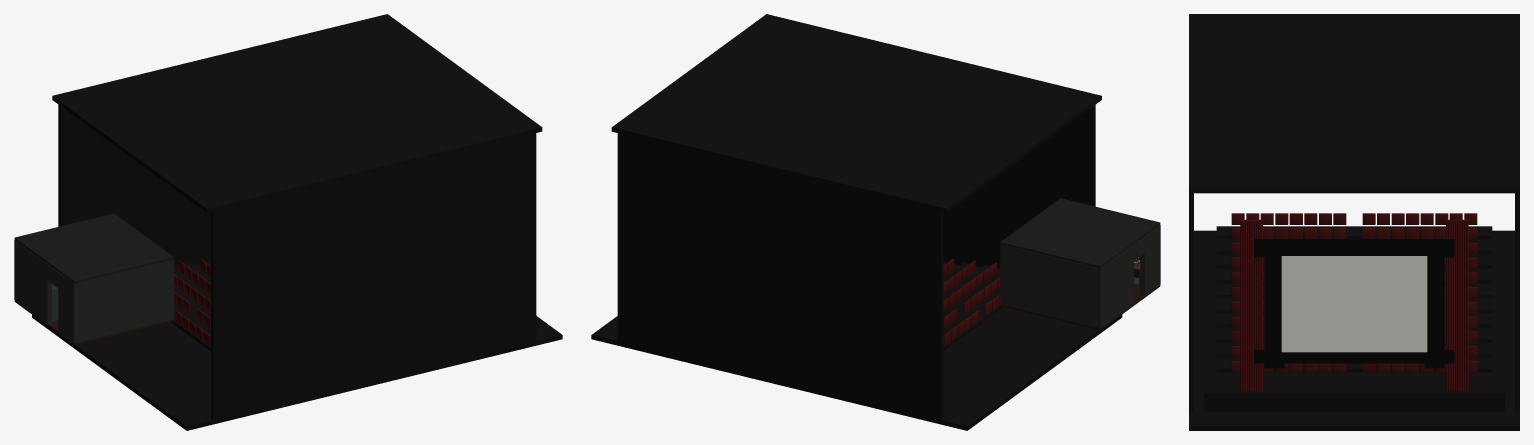
File: exhibit.glb
3 renders of one model, left to right at view 1: azimuth 30°, elevation 25°; view 2: azimuth 150°, elevation 25°; view 3: azimuth 270°, elevation 25°, orthographic. The views are drawn at different scales.
Parts seen in each view (by area): view 1: auditorium, booth_shell; view 2: auditorium, booth_shell; view 3: auditorium.
Boxes of the visible parts, bbox=[...] form: auditorium: bbox=[32, 14, 562, 430]; booth_shell: bbox=[14, 213, 174, 345]; auditorium: bbox=[591, 14, 1122, 430]; booth_shell: bbox=[1000, 198, 1160, 330]; auditorium: bbox=[1189, 14, 1519, 430].
Bounding box in the file's own units: 22.22 × 10.2 × 13.2.
